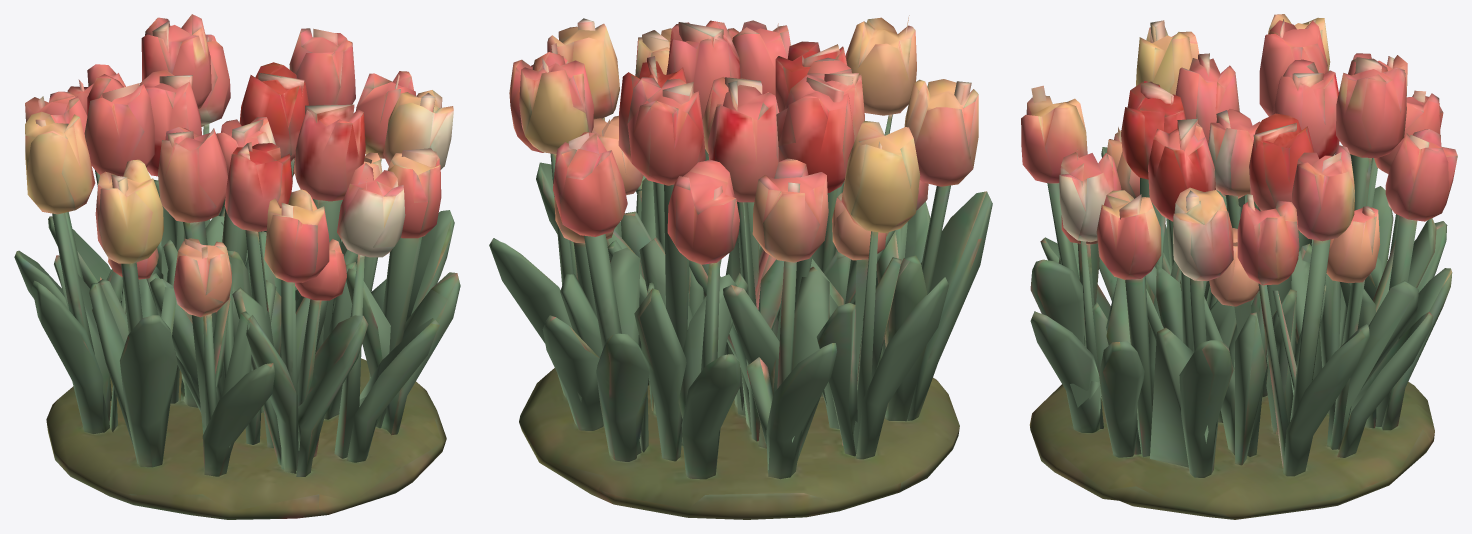
File: tulips.glb
3 views of the same model, side by side, from view 1: azimuth 30°, elevation 25°; view 2: azimuth 150°, elevation 25°; view 3: azimuth 270°, elevation 25° (orthographic). The views are drawn at different scales.
Size of the model in its own units: 1 by 0.8965 by 0.9616.
1 material, 1 textured.
